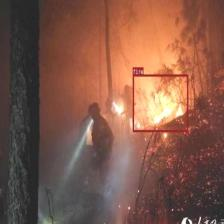fire: (132, 74, 188, 132)
